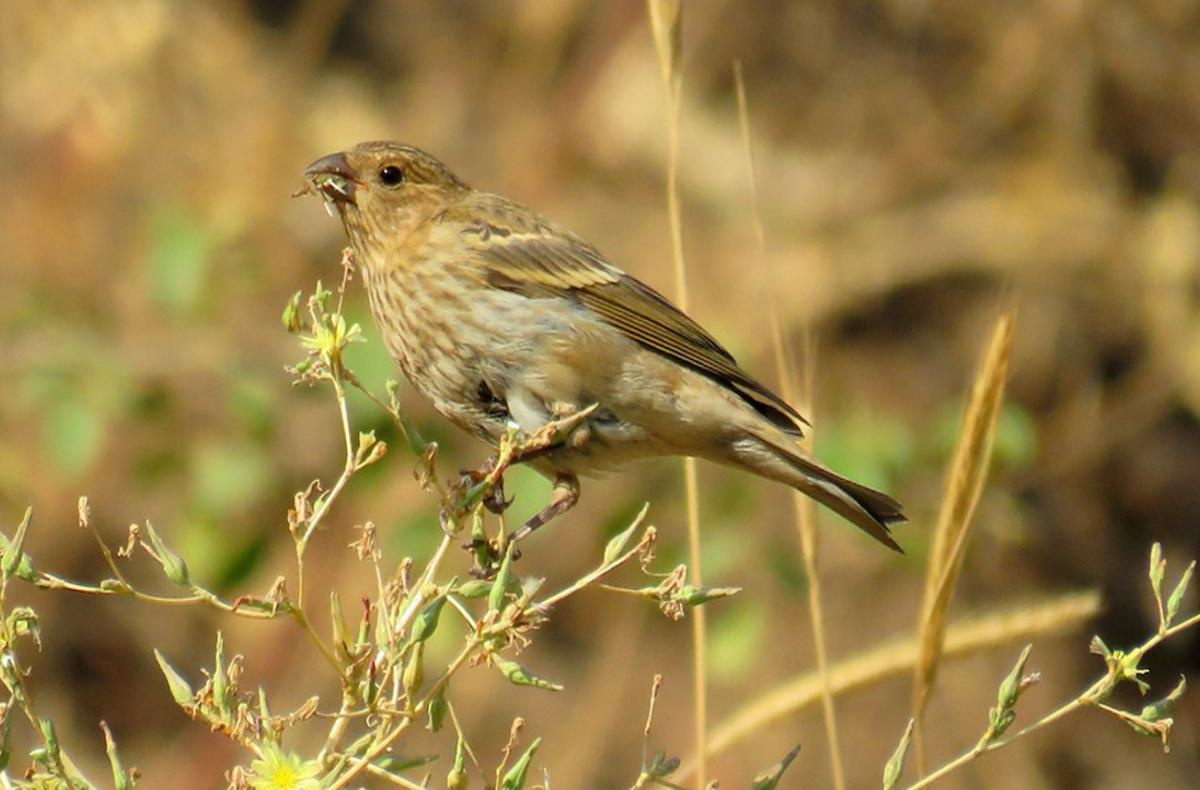rosefinch: (290, 130, 864, 535)
